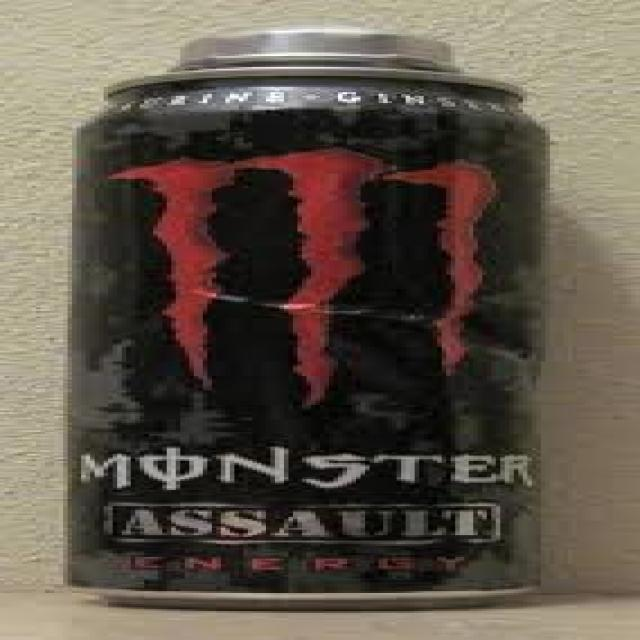Cans: (66, 22, 561, 612)
